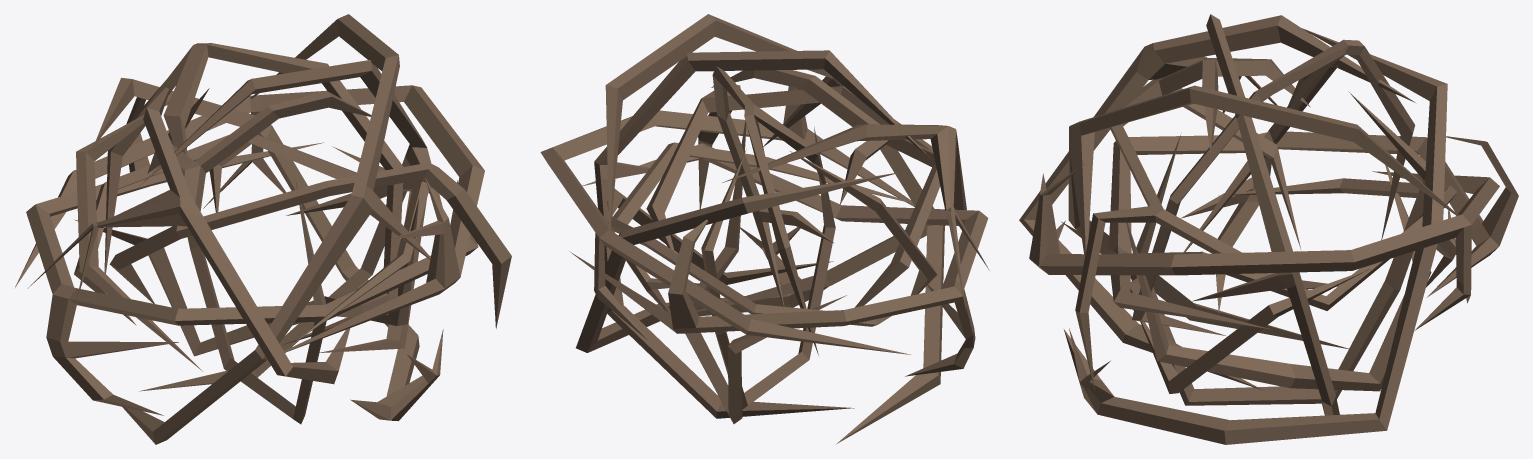
The model's file is Tumbleweed_1.fbx.
The picture shows the model from 3 angles, left to right: view 1: azimuth 30°, elevation 25°; view 2: azimuth 150°, elevation 25°; view 3: azimuth 270°, elevation 25°; orthographic projection. The views are drawn at different scales.
Parts seen in each view (by area): view 1: Tumbleweed_1; view 2: Tumbleweed_1; view 3: Tumbleweed_1.
Boxes of the visible parts, x1,y1,x2,y2 form: Tumbleweed_1: (14,14,511,444); Tumbleweed_1: (540,14,989,444); Tumbleweed_1: (1019,14,1518,444).
Bounding box in the file's own units: 93.04 × 88.79 × 75.55.
